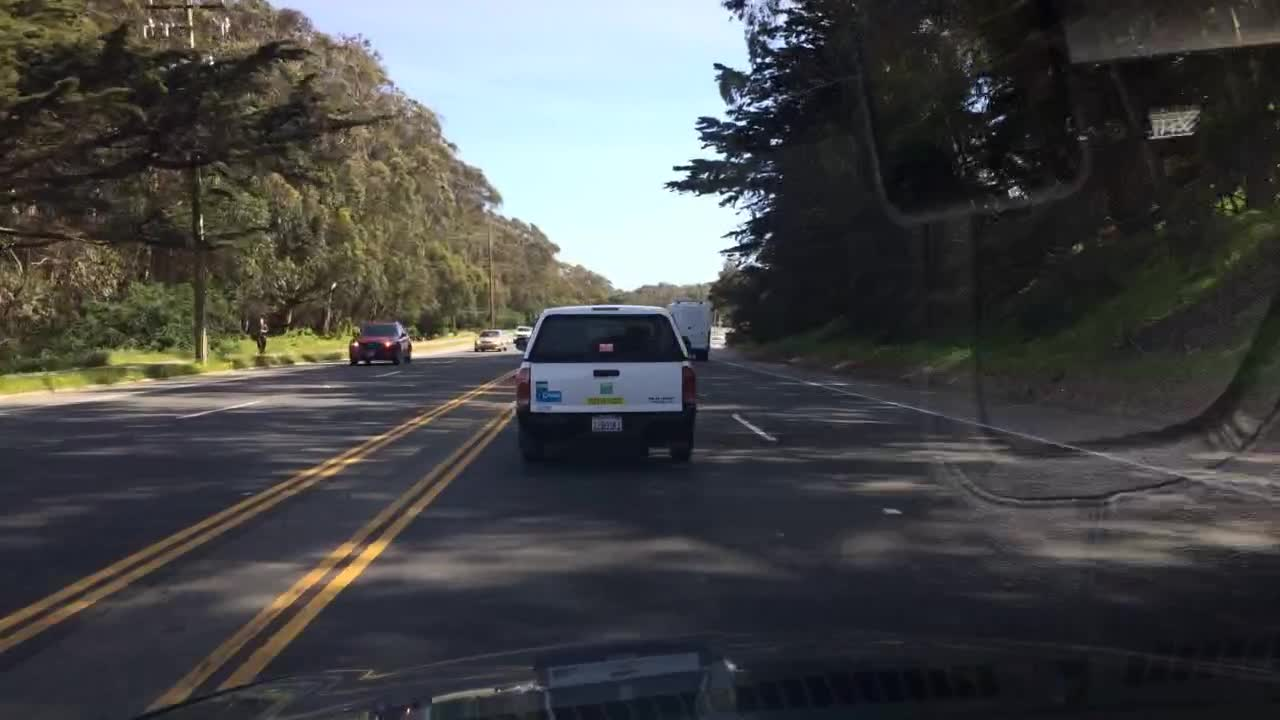car: (511, 303, 697, 463), (665, 298, 713, 362), (347, 319, 412, 364), (472, 325, 507, 353), (513, 322, 531, 343), (734, 321, 752, 332)
person: (251, 317, 270, 354)
